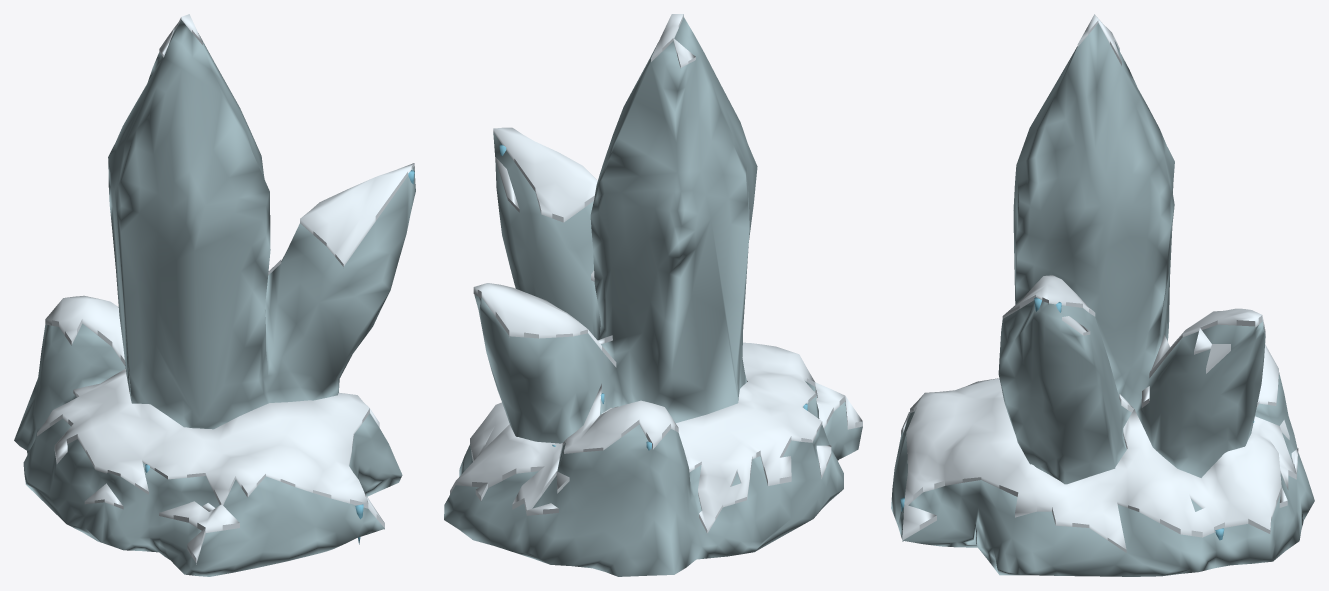
File: BossRoom_SmallCrystal.fbx
3 views of the same model, side by side, from view 1: azimuth 30°, elevation 25°; view 2: azimuth 150°, elevation 25°; view 3: azimuth 270°, elevation 25° (orthographic).
Visible parts, largest first — view 1: BossRoom_SmallCrystal_LOD0; view 2: BossRoom_SmallCrystal_LOD0; view 3: BossRoom_SmallCrystal_LOD0.
Boxes of the visible parts, box(x1,y1,x2,y2) form: BossRoom_SmallCrystal_LOD0: box(14, 14, 415, 576); BossRoom_SmallCrystal_LOD0: box(444, 14, 862, 576); BossRoom_SmallCrystal_LOD0: box(891, 14, 1314, 576).
Size of what is drawn, in the model's own units: 4.4 by 6.07 by 4.82.
